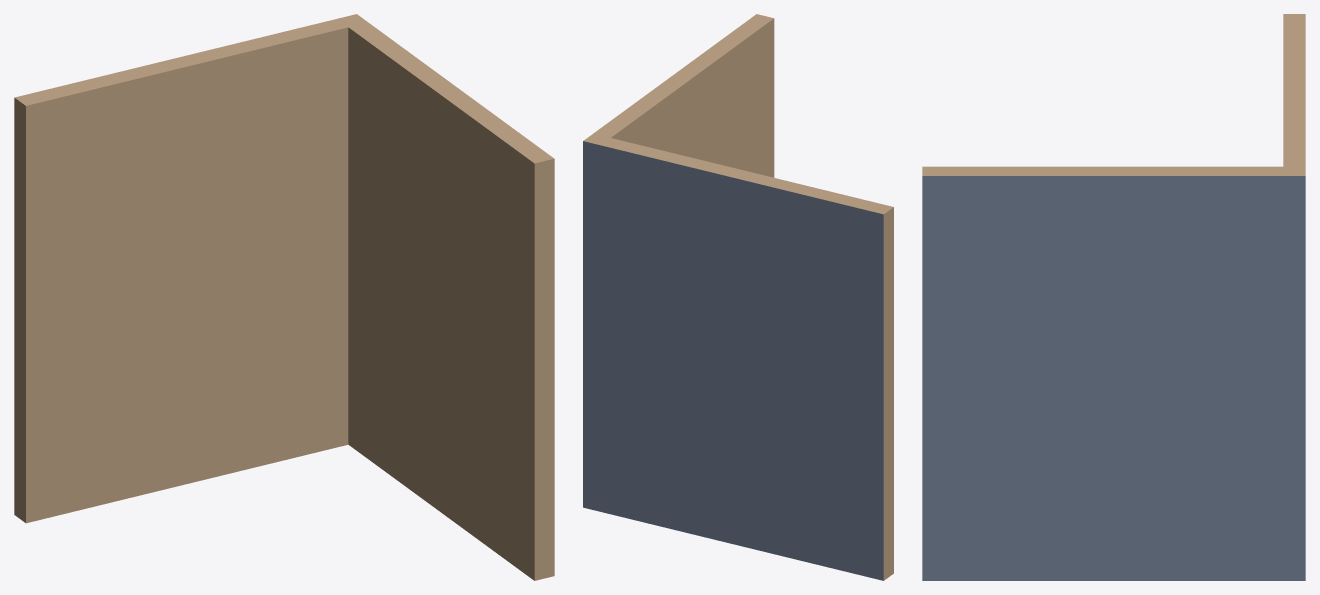
File: Wall3_C3_06.fbx
3 views of the same model, side by side, from view 1: azimuth 30°, elevation 25°; view 2: azimuth 150°, elevation 25°; view 3: azimuth 270°, elevation 25° (orthographic). The views are drawn at different scales.
Visible parts, largest first — view 1: Wall3_C3_06; view 2: Wall3_C3_06; view 3: Wall3_C3_06.
Part boxes in pixels (<box>): Wall3_C3_06: <box>14,14,554,580</box>; Wall3_C3_06: <box>583,14,893,580</box>; Wall3_C3_06: <box>922,14,1305,580</box>.
Size of the model in its own units: 258 by 300 by 258.
